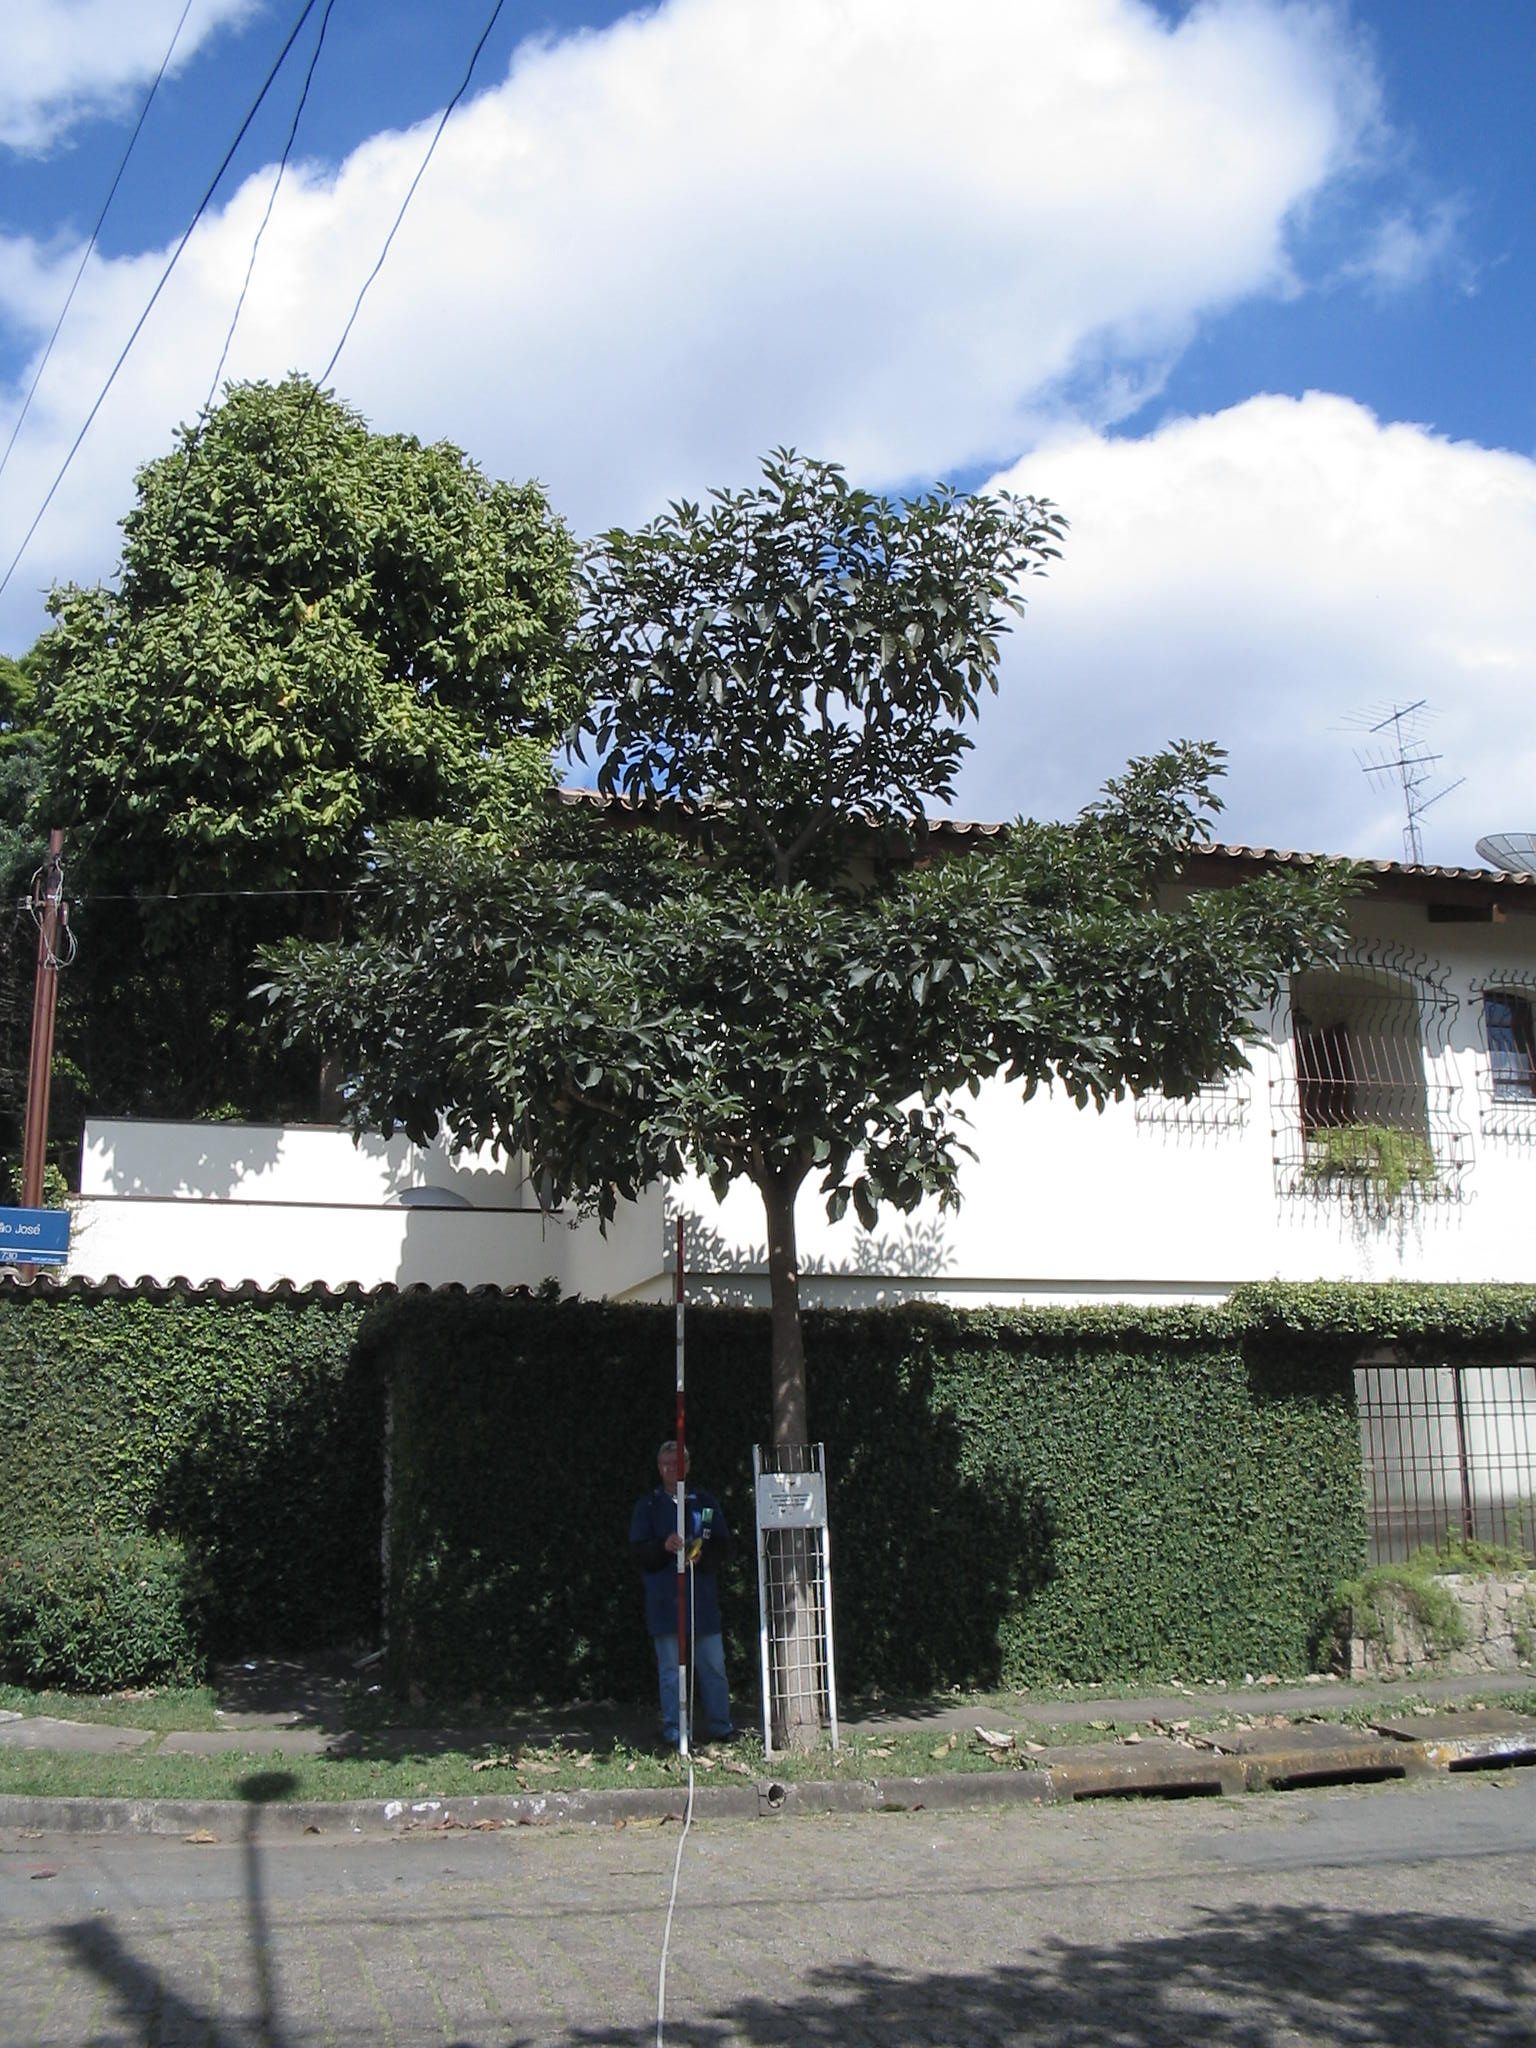crown: (56, 374, 1371, 1245)
stem: (720, 1211, 887, 1755)
stick: (637, 1218, 716, 1756)
tree: (53, 366, 1383, 1763)
